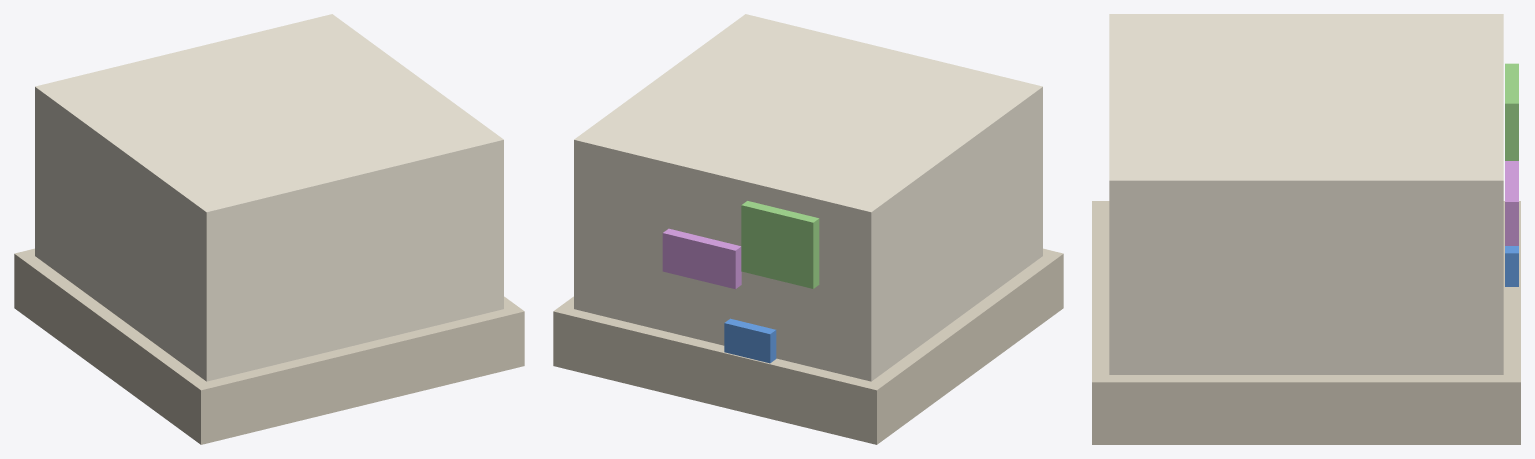
Rendered from pintor_manga_inf.glb.
3 renders of one model, left to right at view 1: azimuth 30°, elevation 25°; view 2: azimuth 150°, elevation 25°; view 3: azimuth 270°, elevation 25°, orthographic. The views are drawn at different scales.
Visible parts, largest first — view 1: pintor_manga_inf; view 2: pintor_manga_inf; view 3: pintor_manga_inf.
Boxes of the visible parts, x1,y1,x2,y2 form: pintor_manga_inf: (14, 14, 524, 444); pintor_manga_inf: (553, 14, 1063, 444); pintor_manga_inf: (1092, 14, 1520, 444).
Size of the model in its own units: 0.31 by 0.21 by 0.31.
